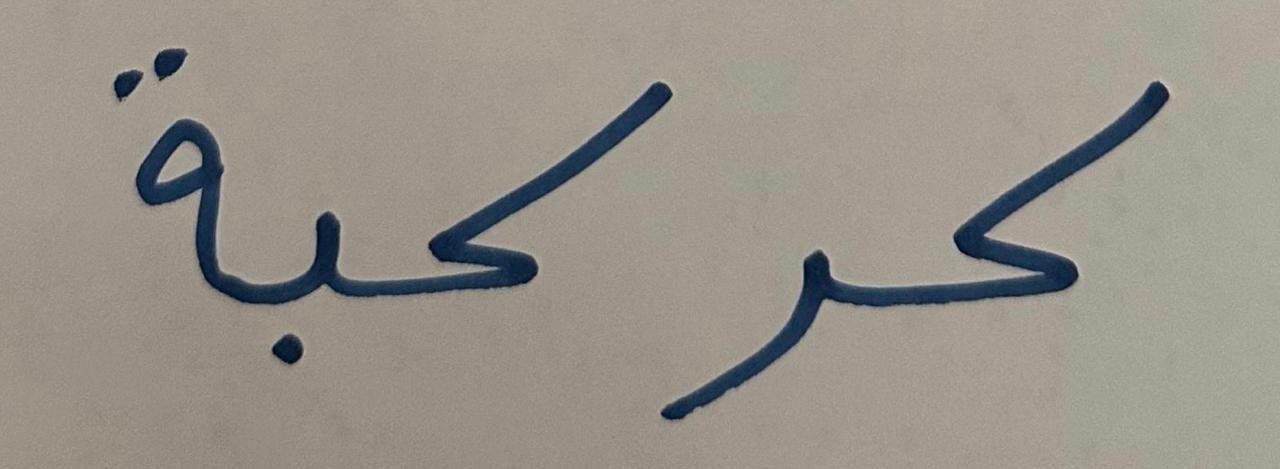beh: (238, 166, 368, 423)
khah: (876, 69, 1225, 365), (369, 36, 631, 372)
sad: (634, 198, 873, 447)
thal: (89, 25, 237, 325)
